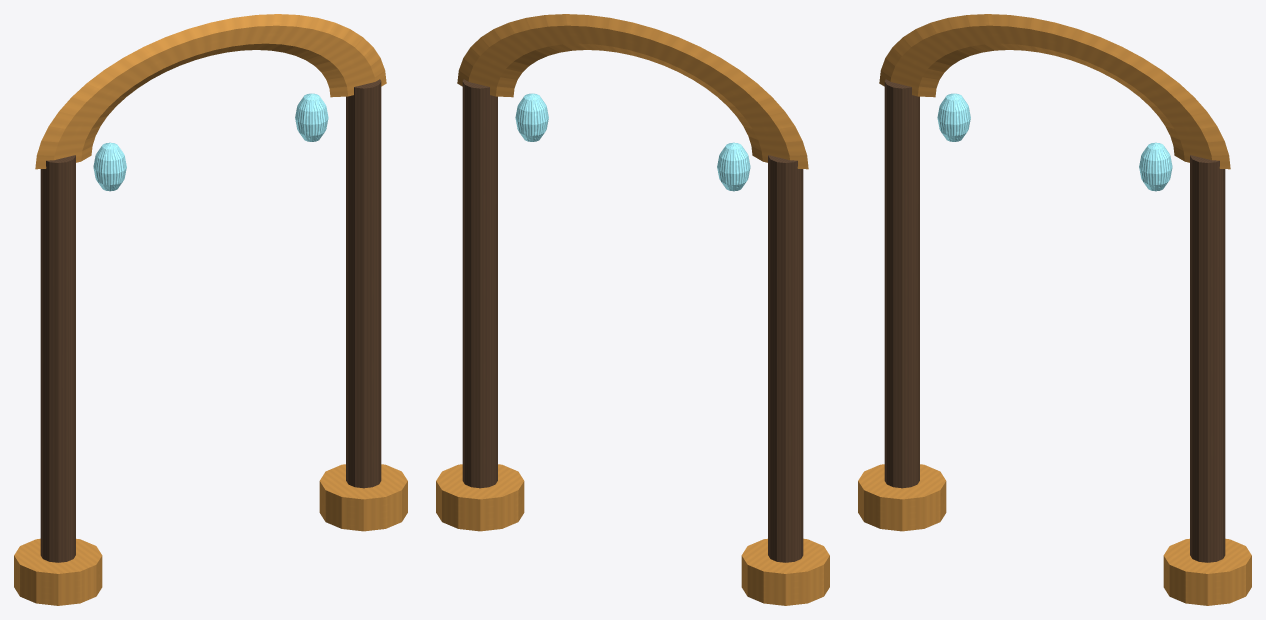
Rendered from atlas100-s011-a09.glb.
3 views of the same model, side by side, from view 1: azimuth 30°, elevation 25°; view 2: azimuth 150°, elevation 25°; view 3: azimuth 330°, elevation 25° (orthographic).
Visible parts, largest first — view 1: atlas100-s011-a09:part-004, atlas100-s011-a09:part-000, atlas100-s011-a09:part-002, atlas100-s011-a09:part-003, atlas100-s011-a09:part-001, atlas100-s011-a09:part-006, atlas100-s011-a09:part-005; view 2: atlas100-s011-a09:part-004, atlas100-s011-a09:part-000, atlas100-s011-a09:part-002, atlas100-s011-a09:part-003, atlas100-s011-a09:part-001, atlas100-s011-a09:part-006, atlas100-s011-a09:part-005; view 3: atlas100-s011-a09:part-004, atlas100-s011-a09:part-002, atlas100-s011-a09:part-000, atlas100-s011-a09:part-001, atlas100-s011-a09:part-003, atlas100-s011-a09:part-005, atlas100-s011-a09:part-006.
Boxes of the visible parts, left/top/right/bottom form: atlas100-s011-a09:part-004: left=35, top=14, right=386, bottom=169; atlas100-s011-a09:part-000: left=40, top=155, right=75, bottom=562; atlas100-s011-a09:part-002: left=346, top=79, right=381, bottom=488; atlas100-s011-a09:part-003: left=319, top=464, right=407, bottom=531; atlas100-s011-a09:part-001: left=14, top=538, right=102, bottom=605; atlas100-s011-a09:part-006: left=295, top=93, right=328, bottom=141; atlas100-s011-a09:part-005: left=93, top=142, right=126, bottom=191; atlas100-s011-a09:part-004: left=457, top=14, right=808, bottom=169; atlas100-s011-a09:part-000: left=768, top=155, right=803, bottom=562; atlas100-s011-a09:part-002: left=462, top=79, right=497, bottom=488; atlas100-s011-a09:part-003: left=436, top=464, right=524, bottom=531; atlas100-s011-a09:part-001: left=741, top=538, right=829, bottom=605; atlas100-s011-a09:part-006: left=515, top=93, right=548, bottom=141; atlas100-s011-a09:part-005: left=717, top=142, right=750, bottom=191; atlas100-s011-a09:part-004: left=879, top=14, right=1230, bottom=169; atlas100-s011-a09:part-002: left=1190, top=155, right=1225, bottom=562; atlas100-s011-a09:part-000: left=884, top=79, right=919, bottom=488; atlas100-s011-a09:part-001: left=858, top=464, right=946, bottom=531; atlas100-s011-a09:part-003: left=1163, top=538, right=1251, bottom=605; atlas100-s011-a09:part-005: left=937, top=93, right=970, bottom=141; atlas100-s011-a09:part-006: left=1139, top=142, right=1172, bottom=191.
Size of the model in its own units: 2.5 by 3.3 by 0.5.
3 materials, 3 textured.
